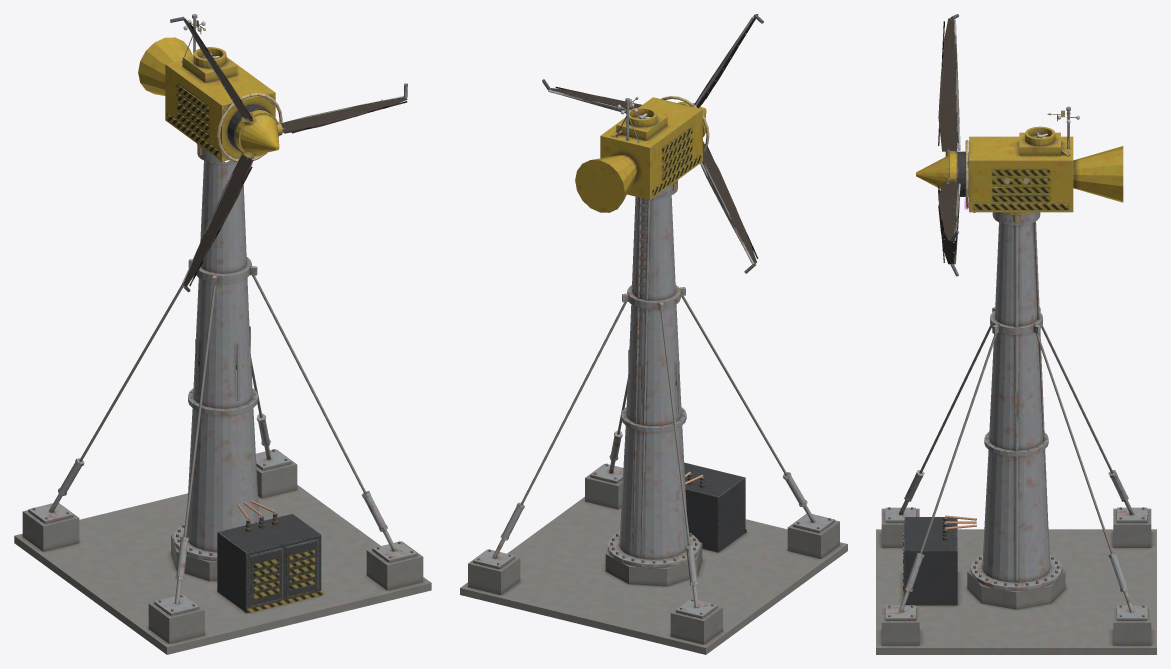
The model's file is turbina_alta.glb.
3 views of the same model, side by side, from view 1: azimuth 30°, elevation 25°; view 2: azimuth 150°, elevation 25°; view 3: azimuth 270°, elevation 25° (orthographic). The views are drawn at different scales.
Parts seen in each view (by area): view 1: turbina_alta_corpo, turbina_alta_nacele, turbina_alta_helice; view 2: turbina_alta_corpo, turbina_alta_nacele, turbina_alta_helice; view 3: turbina_alta_corpo, turbina_alta_nacele, turbina_alta_helice.
Part boxes in pixels (bbox=[...]): turbina_alta_corpo: bbox=[14, 145, 431, 654]; turbina_alta_nacele: bbox=[138, 14, 282, 162]; turbina_alta_helice: bbox=[170, 16, 407, 292]; turbina_alta_corpo: bbox=[460, 181, 847, 654]; turbina_alta_nacele: bbox=[575, 96, 709, 212]; turbina_alta_helice: bbox=[542, 14, 763, 273]; turbina_alta_corpo: bbox=[876, 212, 1156, 654]; turbina_alta_nacele: bbox=[957, 106, 1123, 222]; turbina_alta_helice: bbox=[916, 14, 960, 276].
Size of the model in its own units: 3.19 by 6.35 by 2.96.
3 materials, 1 textured.
